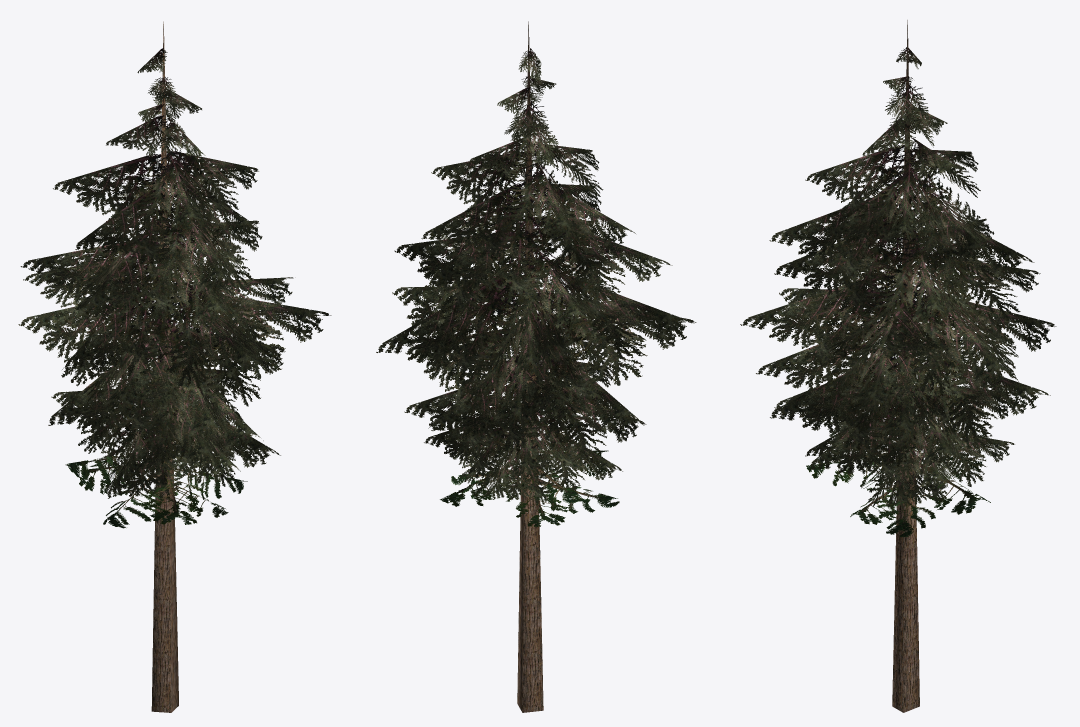
Rendered from ever_pinetree_large_l0.fbx.
3 renders of one model, left to right at view 1: azimuth 30°, elevation 25°; view 2: azimuth 150°, elevation 25°; view 3: azimuth 270°, elevation 25°, orthographic.
Parts seen in each view (by area): view 1: mesh_node; view 2: mesh_node; view 3: mesh_node.
Boxes of the visible parts, box(x1,y1,x2,y2) form: mesh_node: box(18, 21, 331, 712); mesh_node: box(376, 21, 696, 712); mesh_node: box(740, 20, 1056, 712).
Bounding box in the file's own units: 8.84 × 19.76 × 8.58.
